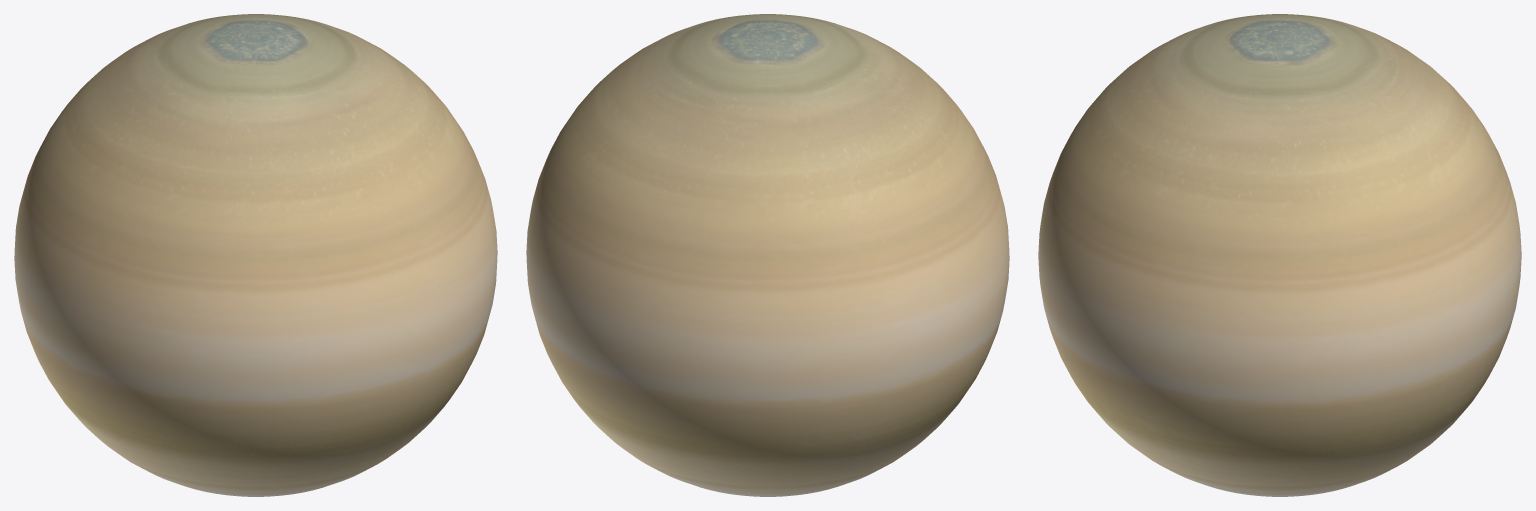
File: saturn.glb
The picture shows the model from 3 angles, left to right: view 1: azimuth 30°, elevation 25°; view 2: azimuth 150°, elevation 25°; view 3: azimuth 270°, elevation 25°; orthographic projection.
Visible parts, largest first — view 1: Saturn; view 2: Saturn; view 3: Saturn.
Part boxes in pixels (<box>): Saturn: <box>14,14,497,496</box>; Saturn: <box>526,14,1009,496</box>; Saturn: <box>1038,14,1521,496</box>.
Bounding box in the file's own units: 2 × 2 × 2.
Materials: 1 (1 with a texture image).
